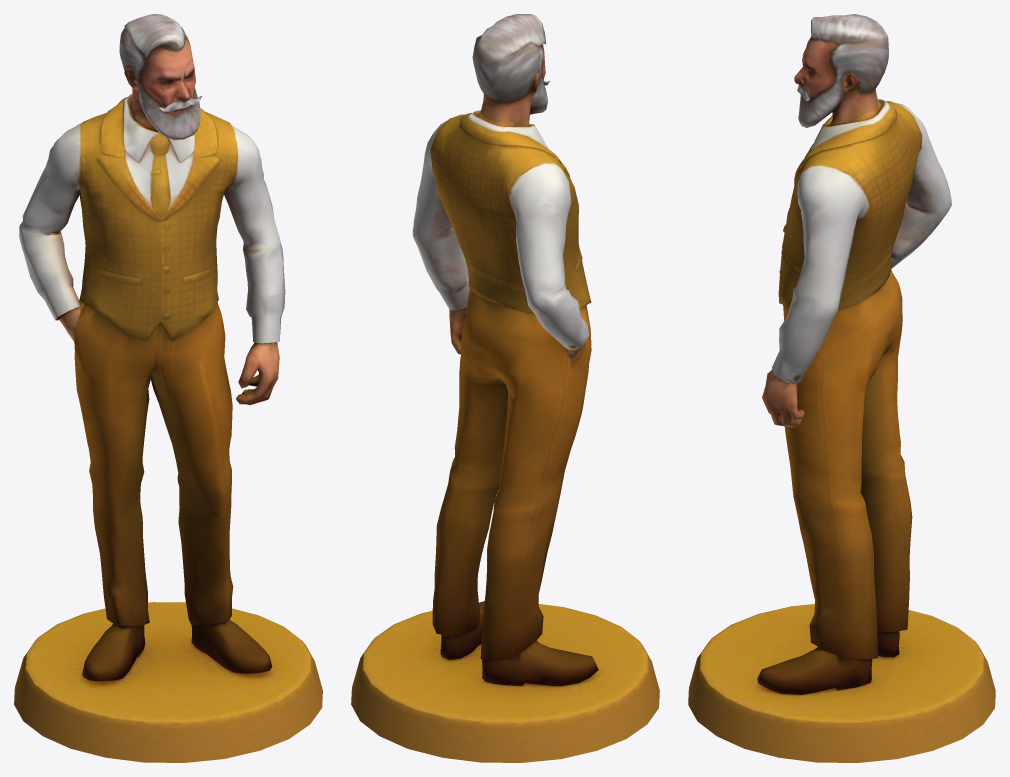
File: saffron_main.obj
3 renders of one model, left to right at view 1: azimuth 30°, elevation 25°; view 2: azimuth 150°, elevation 25°; view 3: azimuth 270°, elevation 25°, orthographic.
Parts seen in each view (by area): view 1: mustardMain_0; view 2: mustardMain_0; view 3: mustardMain_0.
Boxes of the visible parts, bbox=[...] form: mustardMain_0: bbox=[14, 14, 322, 762]; mustardMain_0: bbox=[351, 14, 659, 762]; mustardMain_0: bbox=[688, 14, 995, 762].
Bounding box in the file's own units: 0.792 × 1.92 × 0.792.
